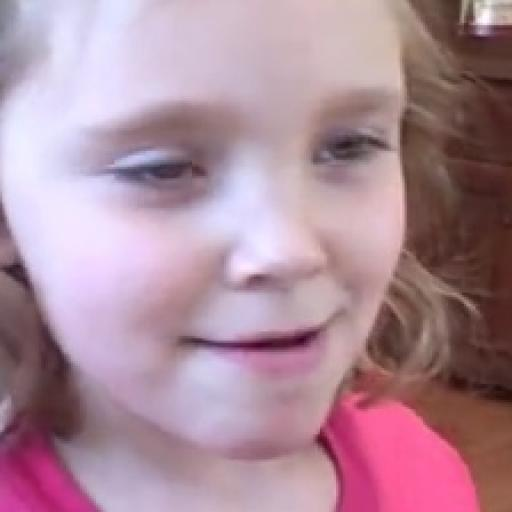Autism: (23, 22, 506, 456)
